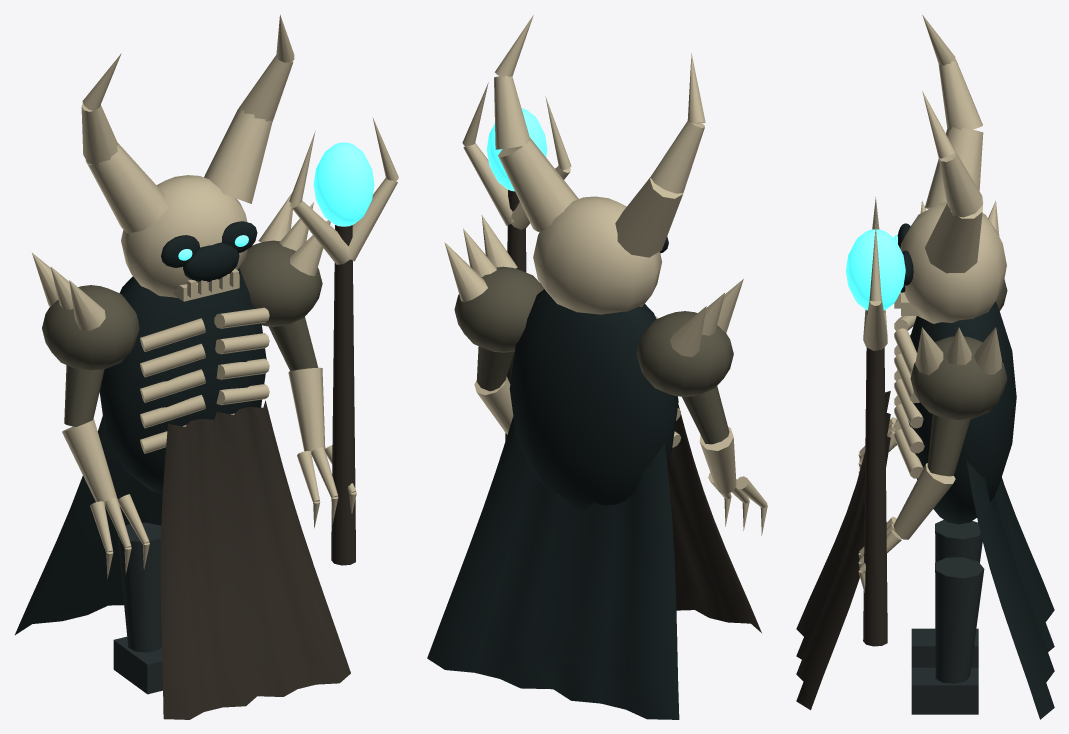
The model's file is revenant.glb.
3 renders of one model, left to right at view 1: azimuth 30°, elevation 25°; view 2: azimuth 150°, elevation 25°; view 3: azimuth 270°, elevation 25°, orthographic.
Parts seen in each view (by area): view 1: frontRobe, head, body, weapon, armL, armR, robe, legL; view 2: robe, body, head, armL, armR, frontRobe, weapon; view 3: head, weapon, armR, body, robe, legR, frontRobe, legL, armL.
Boxes of the visible parts, <box> form: frontRobe: <box>160,400,350,719</box>; head: <box>81,14,294,301</box>; body: <box>99,268,269,493</box>; weapon: <box>289,117,398,565</box>; armL: <box>32,253,149,579</box>; armR: <box>239,192,356,528</box>; robe: <box>15,413,162,634</box>; legL: <box>113,522,162,694</box>; robe: <box>427,416,679,719</box>; body: <box>509,289,680,512</box>; head: <box>494,15,705,314</box>; armL: <box>636,279,767,535</box>; armR: <box>444,215,544,434</box>; frontRobe: <box>667,404,761,632</box>; weapon: <box>462,82,571,440</box>; head: <box>894,15,1006,323</box>; weapon: <box>846,197,905,646</box>; armR: <box>858,327,1007,592</box>; body: <box>894,301,1016,524</box>; robe: <box>966,461,1054,719</box>; legR: <box>911,557,984,714</box>; frontRobe: <box>796,391,890,710</box>; legL: <box>911,520,982,667</box>; armL: <box>858,200,1007,473</box>.
Bounding box in the file's own units: 1.52 × 3.03 × 1.12.
